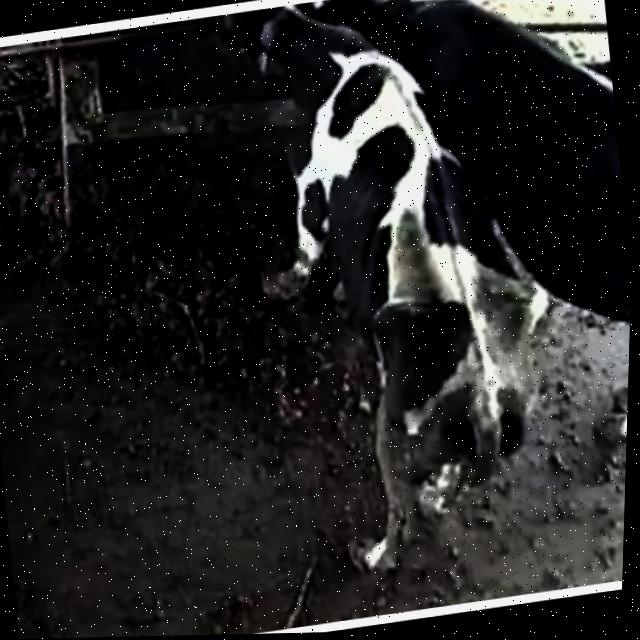drink: (186, 0, 393, 167), (321, 0, 520, 114)
